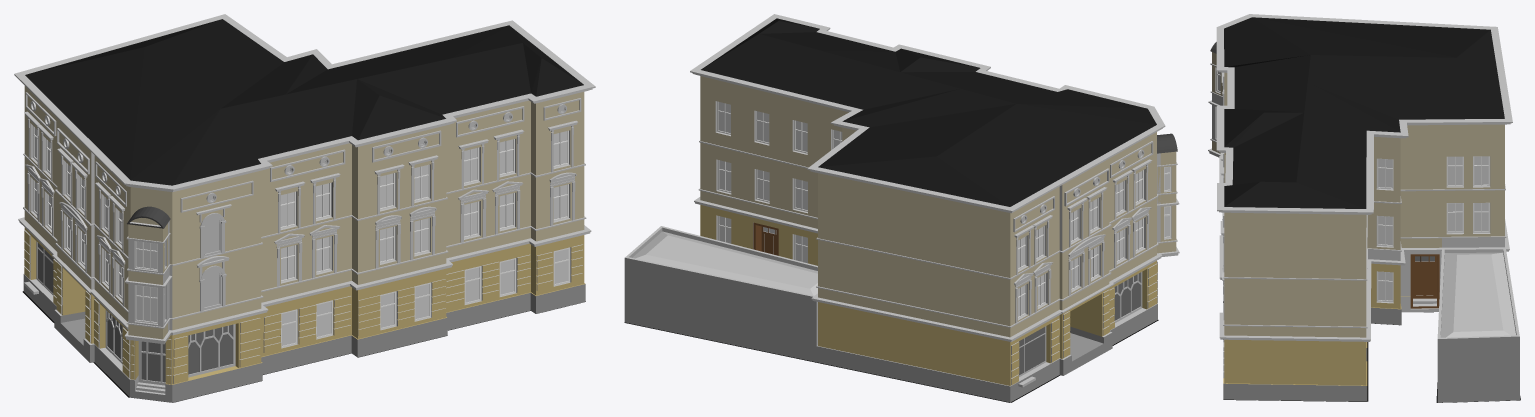
Rendered from Quattro.FBX.
3 views of the same model, side by side, from view 1: azimuth 30°, elevation 25°; view 2: azimuth 150°, elevation 25°; view 3: azimuth 270°, elevation 25° (orthographic). The views are drawn at different scales.
Visible parts, largest first — view 1: Camera_003, OKNO_R1_26, WITRYNA_06, OKNO_R1_6, OKNO_R13_3, Model_003; view 2: Camera_003, OKNO_R1_6, OKNO_R1_37; view 3: Camera_003, OKNO_R1_43_001.
Boxes of the visible parts, <box> form: Camera_003: <box>14,14,595,402</box>; OKNO_R1_26: <box>280,130,570,283</box>; WITRYNA_06: <box>281,247,570,348</box>; OKNO_R1_6: <box>30,123,122,302</box>; OKNO_R13_3: <box>134,240,166,324</box>; Model_003: <box>549,172,576,225</box>; Camera_003: <box>624,14,1179,402</box>; OKNO_R1_6: <box>1018,169,1145,320</box>; OKNO_R1_37: <box>715,101,842,263</box>; Camera_003: <box>1208,14,1520,402</box>; OKNO_R1_43_001: <box>1376,156,1490,303</box>.
Size of the model in its own units: 1141 by 548 by 747.
